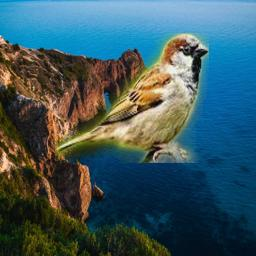Sparrow: (55, 33, 209, 163)
